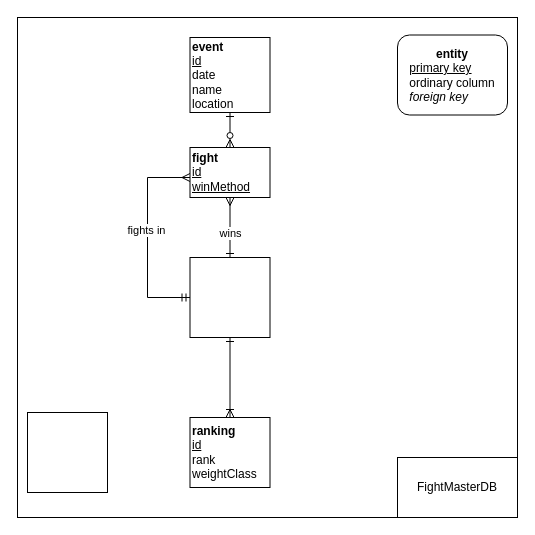
Image size: 535x535. Some labels were removed from this diagram. The centre of each missing label's shape, as x and y in pixels:
fighter id team weightClass nationality: [229,297]
user id email password accessToken: [67,452]
